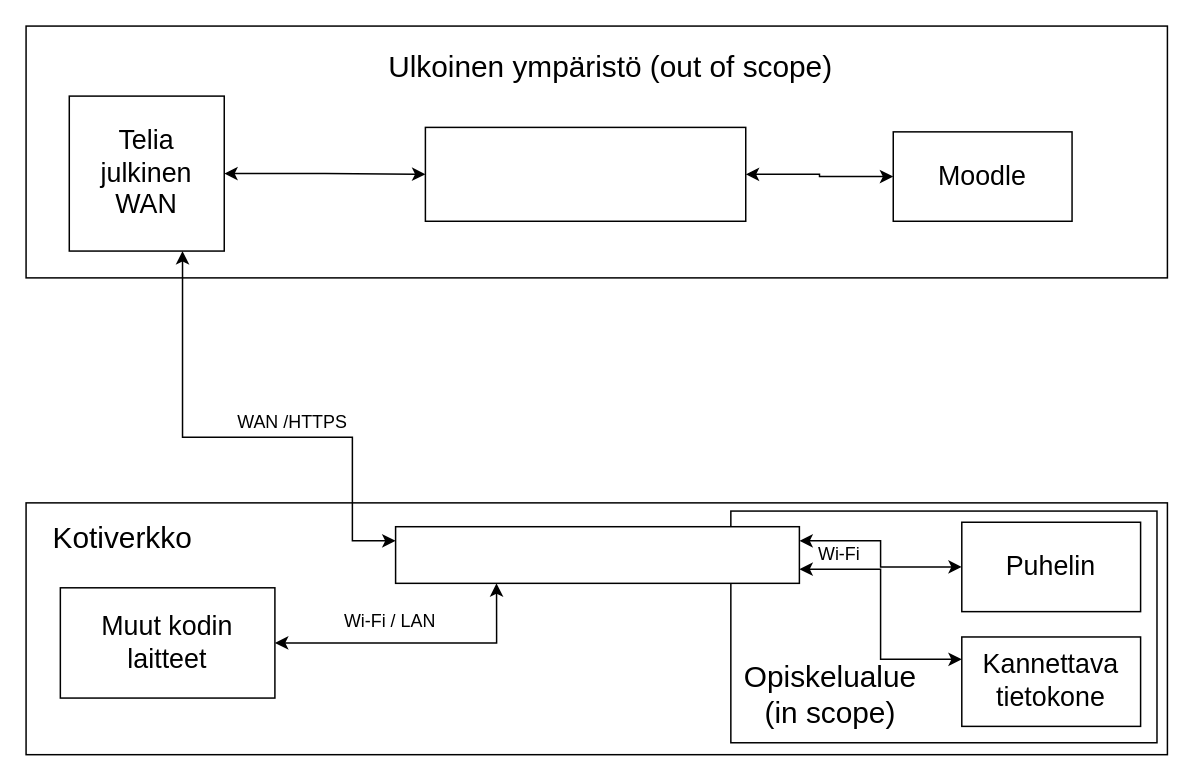
Some shapes in this 1193 by 781 pixel diagram are drawn without their labels. The centre of each missing label's shape, as x and y in pixels:
"Pilvipalvelut (GitHub, OneDrive, Google Drive)" goes at point 585,173.
"Reititin/palomuuri" goes at point 596,554.
